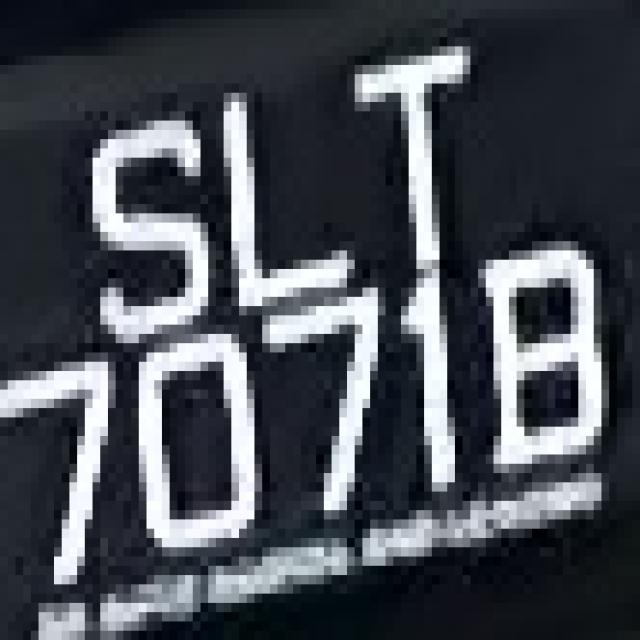0: (124, 352, 278, 556)
1: (386, 269, 478, 538)
7: (239, 297, 393, 575), (0, 352, 131, 640)
B: (455, 222, 617, 501)
L: (192, 74, 354, 306)
S: (77, 111, 216, 352)
T: (324, 56, 509, 278)
